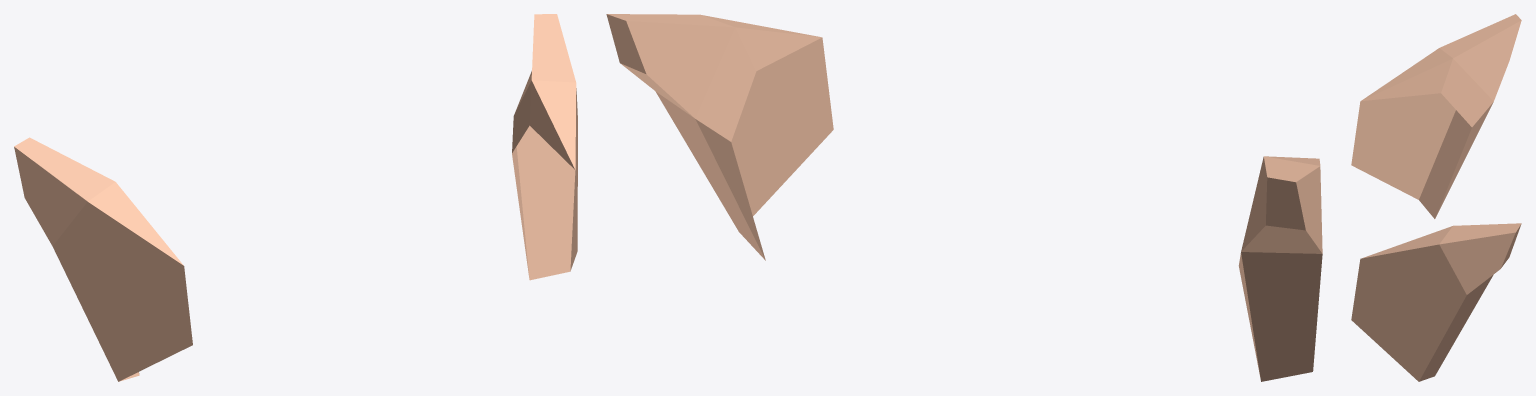
File: Chr_Ear_Ear_01_Static.fbx
3 renders of one model, left to right at view 1: azimuth 30°, elevation 25°; view 2: azimuth 150°, elevation 25°; view 3: azimuth 270°, elevation 25°, orthographic. The views are drawn at different scales.
Visible parts, largest first — view 1: Chr_Ear_Ear_01_Static; view 2: Chr_Ear_Ear_01_Static; view 3: Chr_Ear_Ear_01_Static.
Part boxes in pixels (box(x1,y1,x2,y2)): Chr_Ear_Ear_01_Static: box(14, 14, 577, 381); Chr_Ear_Ear_01_Static: box(606, 14, 1322, 381); Chr_Ear_Ear_01_Static: box(1351, 14, 1521, 381).
Size of the model in its own units: 0.3029 by 0.1139 by 0.0998.
